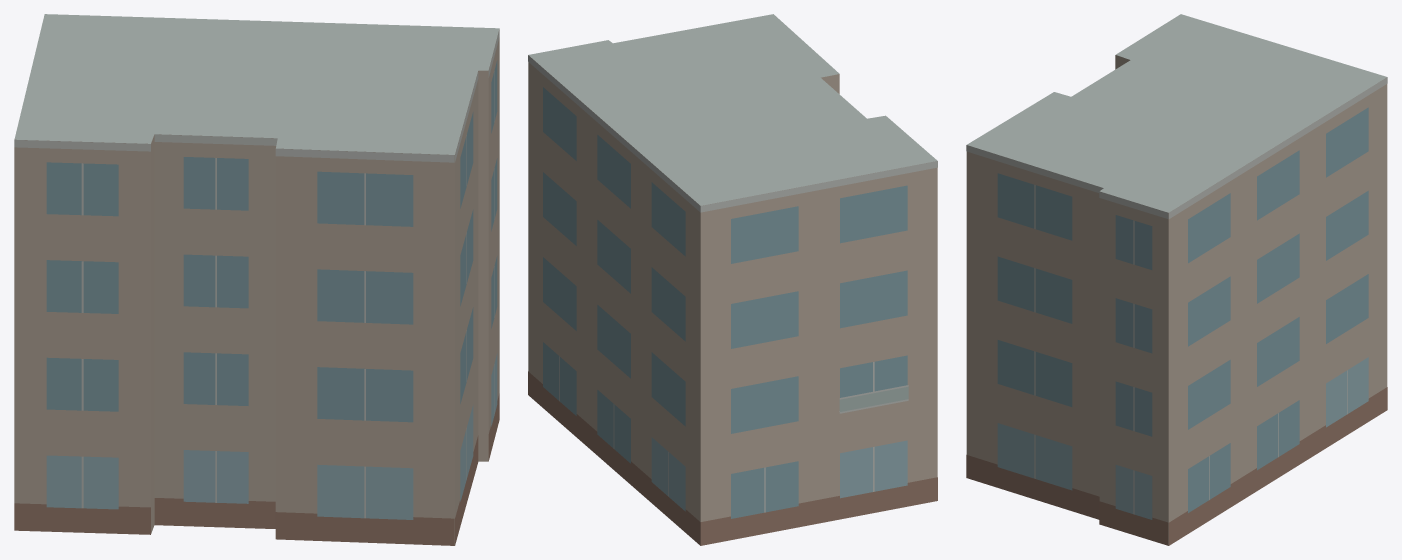
Rendered from survey-upis-32747977.glb.
3 views of the same model, side by side, from view 1: azimuth 30°, elevation 25°; view 2: azimuth 150°, elevation 25°; view 3: azimuth 270°, elevation 25° (orthographic). The views are drawn at different scales.
Parts seen in each view (by area): view 1: survey-upis-32747977.tmp; view 2: survey-upis-32747977.tmp; view 3: survey-upis-32747977.tmp.
Part boxes in pixels (left/top/right/bottom): survey-upis-32747977.tmp: left=14, top=14, right=499, bottom=545; survey-upis-32747977.tmp: left=528, top=14, right=937, bottom=545; survey-upis-32747977.tmp: left=966, top=14, right=1387, bottom=545.
Bounding box in the file's own units: 15.88 × 12.4 × 14.21.
